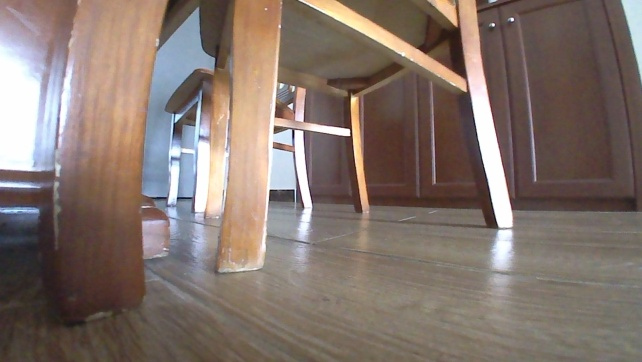dining_table1: (0, 0, 511, 329)
